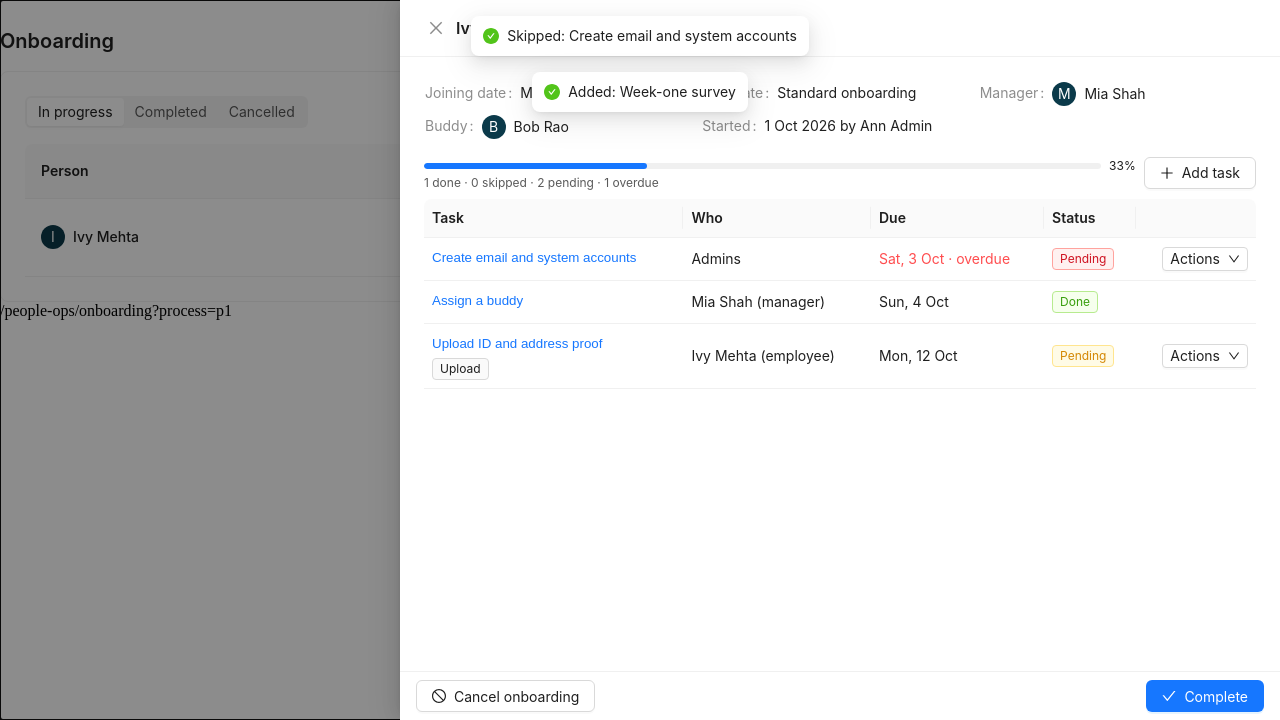
it: People ops: onboarding › completes, skipping what is left; or cancels with a reason
Expected: the text "Ivy Mehta's onboarding" is shown, [456, 16, 639, 40]
Click the button "Cancel onboarding" at (506, 696), box [416, 680, 595, 712]
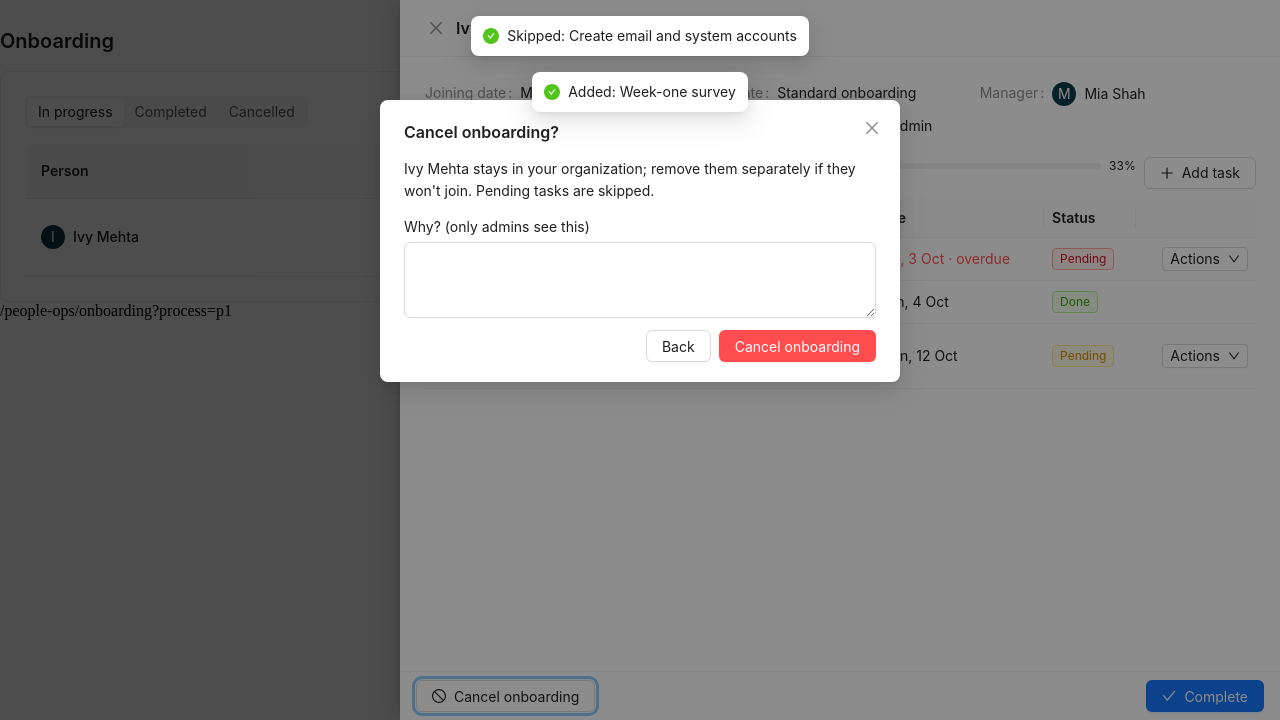
Click the button "Cancel onboarding" at (797, 346), box [719, 330, 876, 362]
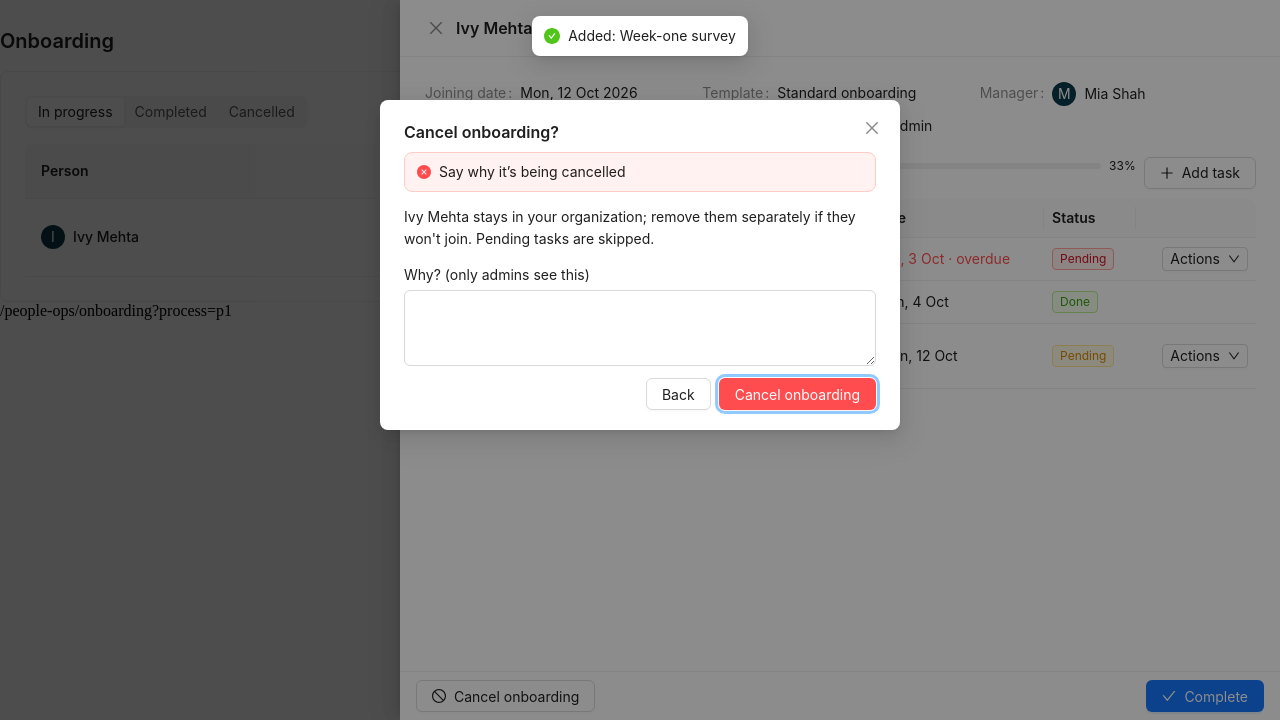
Result: the text "Say why it’s being cancelled" is shown at [439, 163, 626, 180]
Click the button "Back" at (678, 394), box [646, 378, 711, 410]
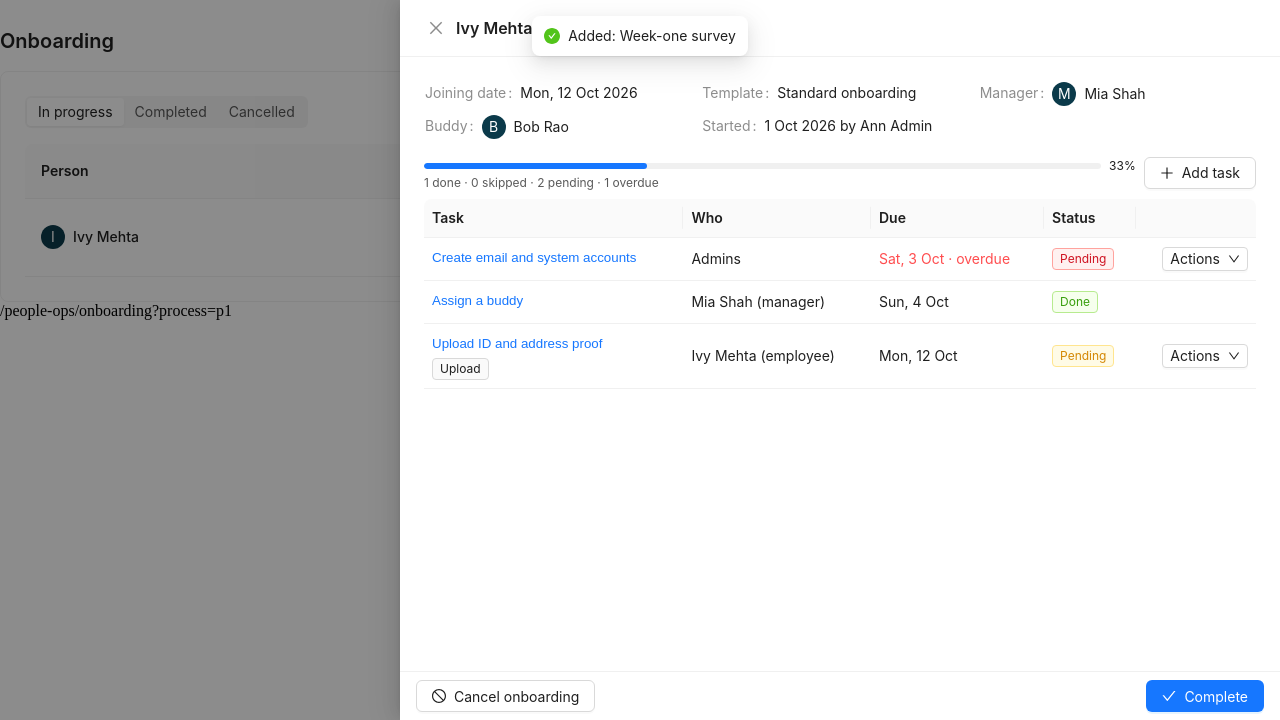
Click the button "Complete" at (1205, 696), box [1146, 680, 1264, 712]
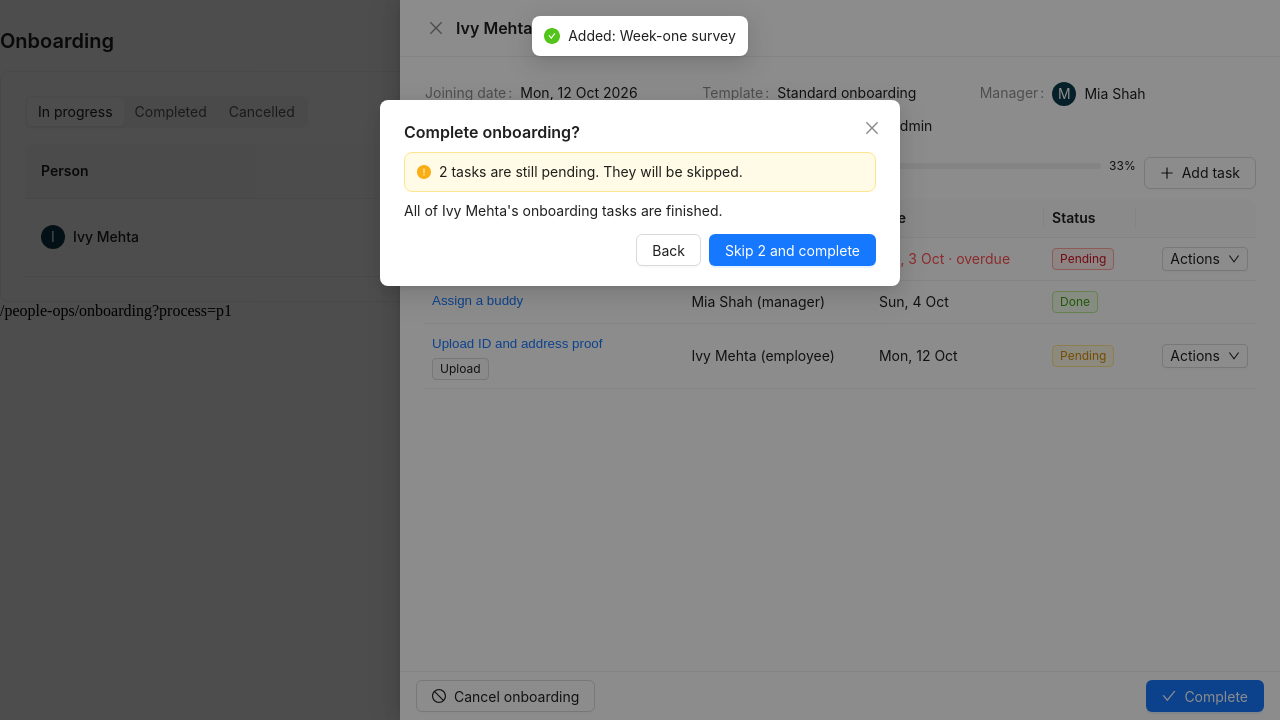
Result: the text "2 tasks are still pending. They will be skipped." is shown at [439, 163, 743, 180]
Click the button "Skip 2 and complete" at (792, 250), box [709, 234, 876, 266]
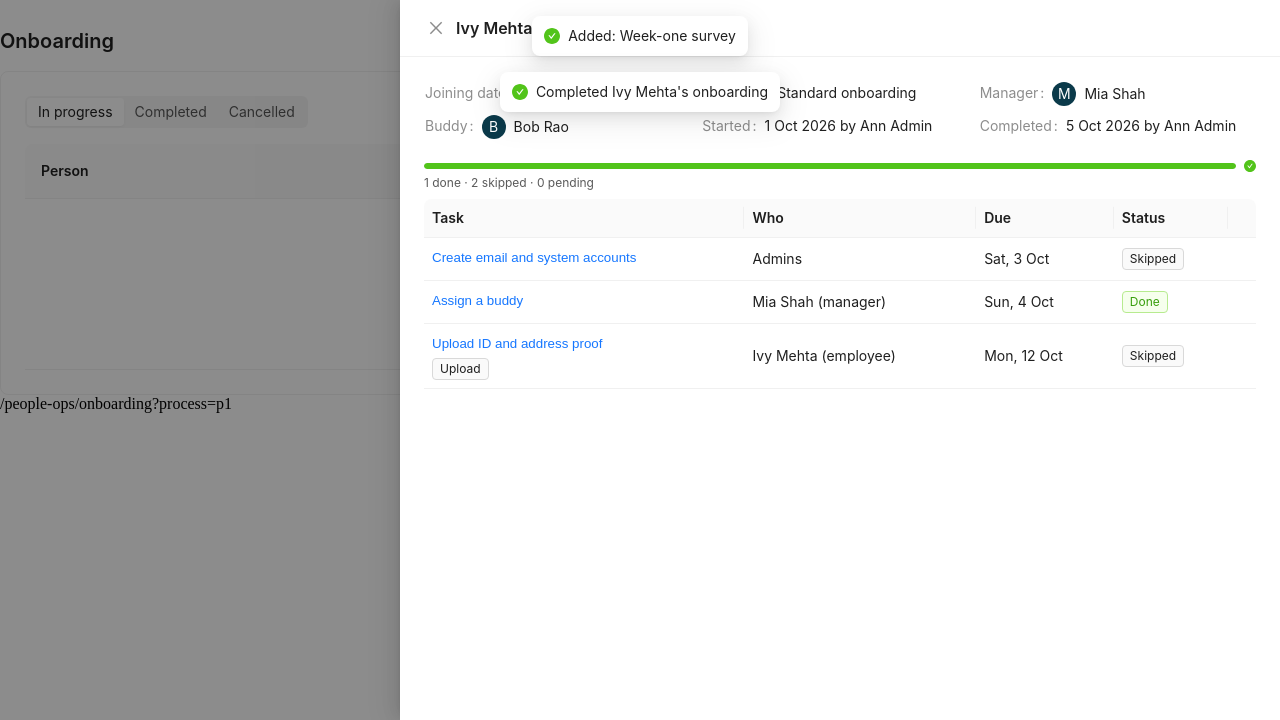
Expected: the 1st text "Completed" is shown, [647, 17, 726, 39]
Result: the text "Completed Ivy Mehta's onboarding" is shown at [536, 81, 768, 103]
Result: the button "Add task" is gone
